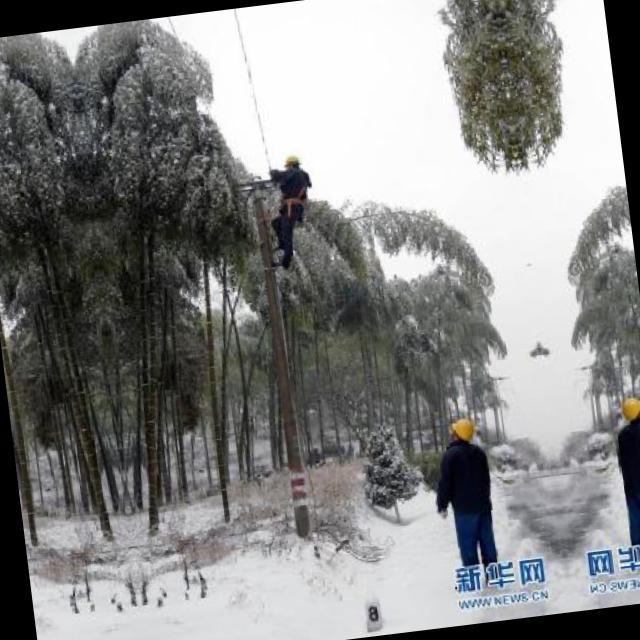helmet: (439, 411, 482, 448), (610, 389, 640, 427), (278, 153, 302, 178)
